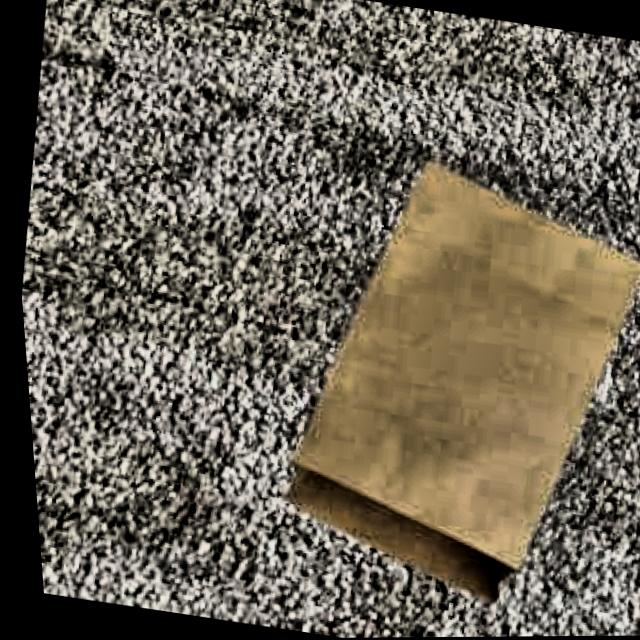Paper-bag: (222, 131, 640, 639)
